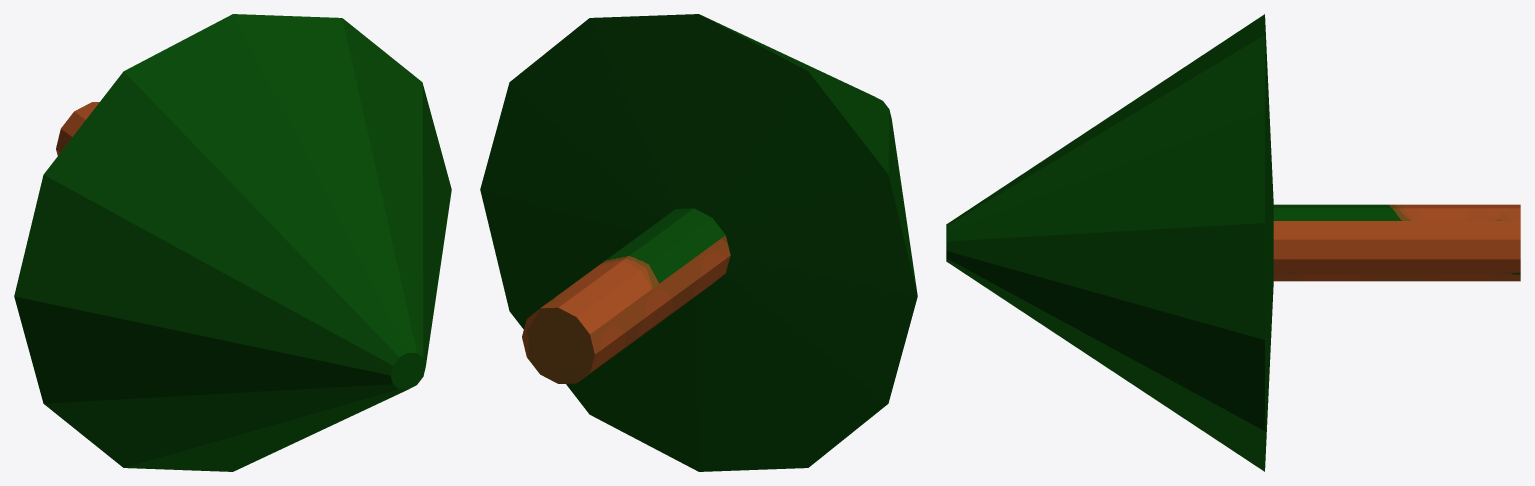
The model's file is treee.obj.
The picture shows the model from 3 angles, left to right: view 1: azimuth 30°, elevation 25°; view 2: azimuth 150°, elevation 25°; view 3: azimuth 270°, elevation 25°; orthographic projection. The views are drawn at different scales.
Visible parts, largest first — view 1: Cylinder; view 2: Cylinder; view 3: Cylinder.
Part boxes in pixels (left/top/right/bottom): Cylinder: left=14, top=14, right=451, bottom=471; Cylinder: left=480, top=14, right=917, bottom=471; Cylinder: left=946, top=14, right=1520, bottom=471.
Bounding box in the file's own units: 3.59 × 3.59 × 4.49.
1 material, 1 textured.
